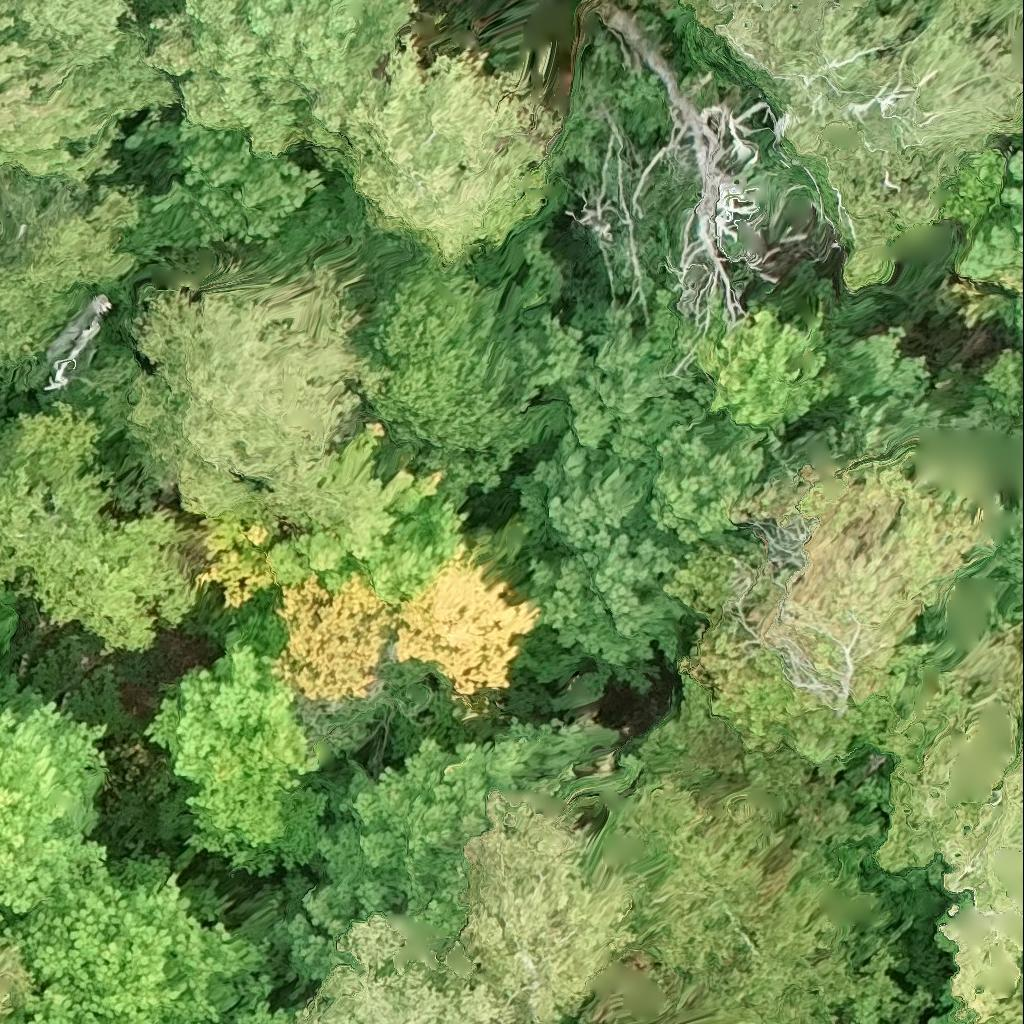crown: (291, 720, 615, 983), (87, 270, 387, 523), (512, 435, 764, 689), (370, 229, 592, 491), (0, 400, 204, 651), (146, 607, 325, 875), (1, 857, 271, 1023), (277, 543, 550, 707), (460, 791, 636, 1023), (0, 699, 110, 938), (296, 912, 515, 1023), (0, 578, 46, 724), (0, 937, 27, 1023), (240, 1004, 293, 1023)
